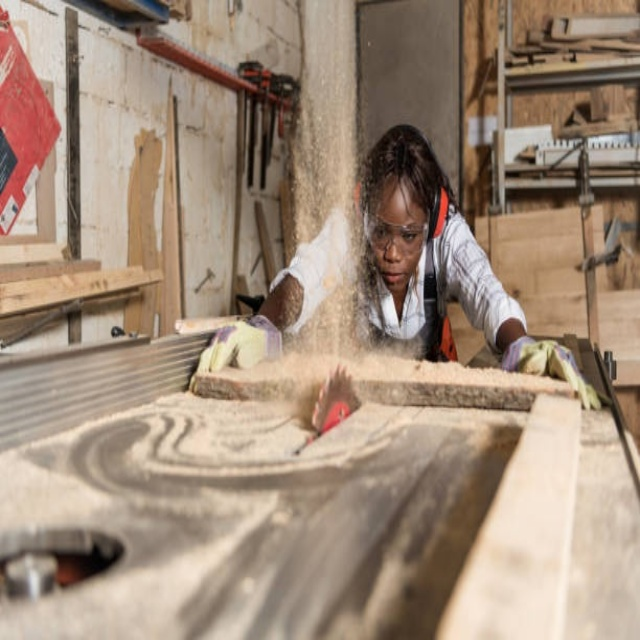Gafas: (363, 193, 431, 256)
Guantes: (501, 335, 602, 410), (190, 316, 284, 386)
Sin_mascara: (379, 260, 409, 296)
